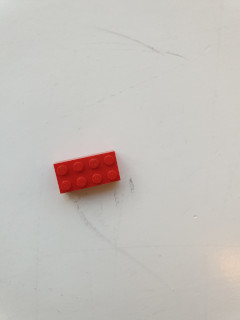2x4 red: (53, 152, 122, 195)
